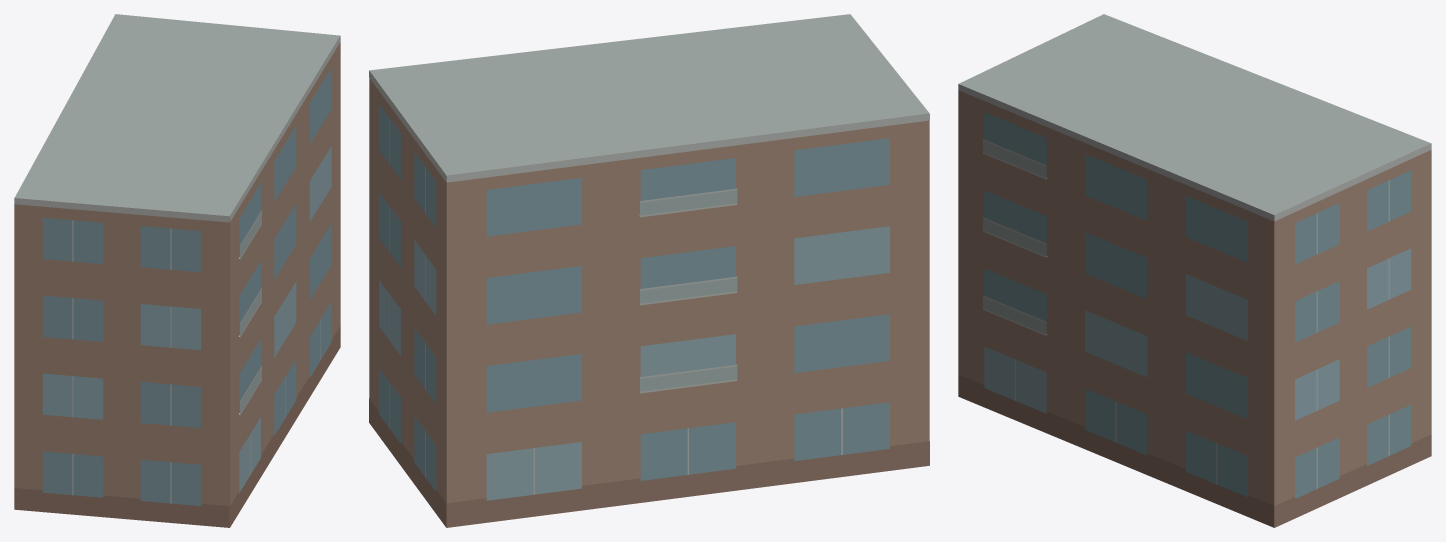
The model's file is survey-upis-32647629.glb.
3 renders of one model, left to right at view 1: azimuth 30°, elevation 25°; view 2: azimuth 150°, elevation 25°; view 3: azimuth 270°, elevation 25°, orthographic. The views are drawn at different scales.
Parts seen in each view (by area): view 1: survey-upis-32647629.tmp; view 2: survey-upis-32647629.tmp; view 3: survey-upis-32647629.tmp.
Part boxes in pixels (x1=…): survey-upis-32647629.tmp: x1=14, y1=14, x2=340, y2=527; survey-upis-32647629.tmp: x1=369, y1=14, x2=929, y2=527; survey-upis-32647629.tmp: x1=958, y1=14, x2=1431, y2=527.
Size of the model in its own units: 16.85 by 12.2 by 16.75.
